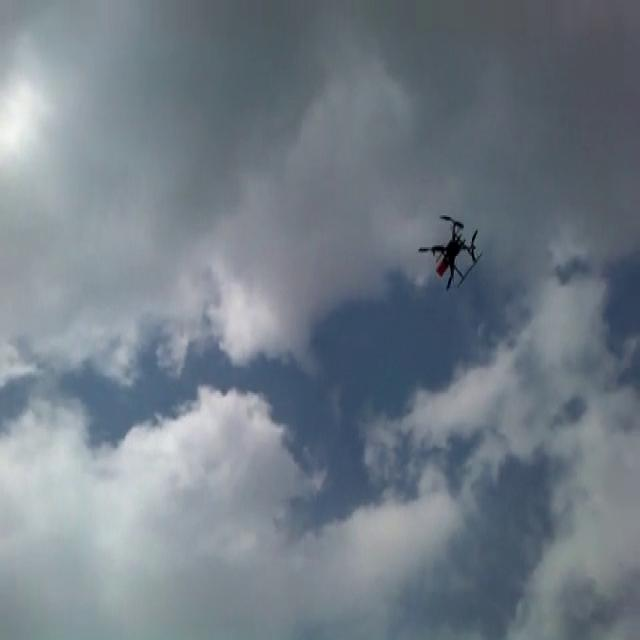drone: (415, 210, 482, 293)
